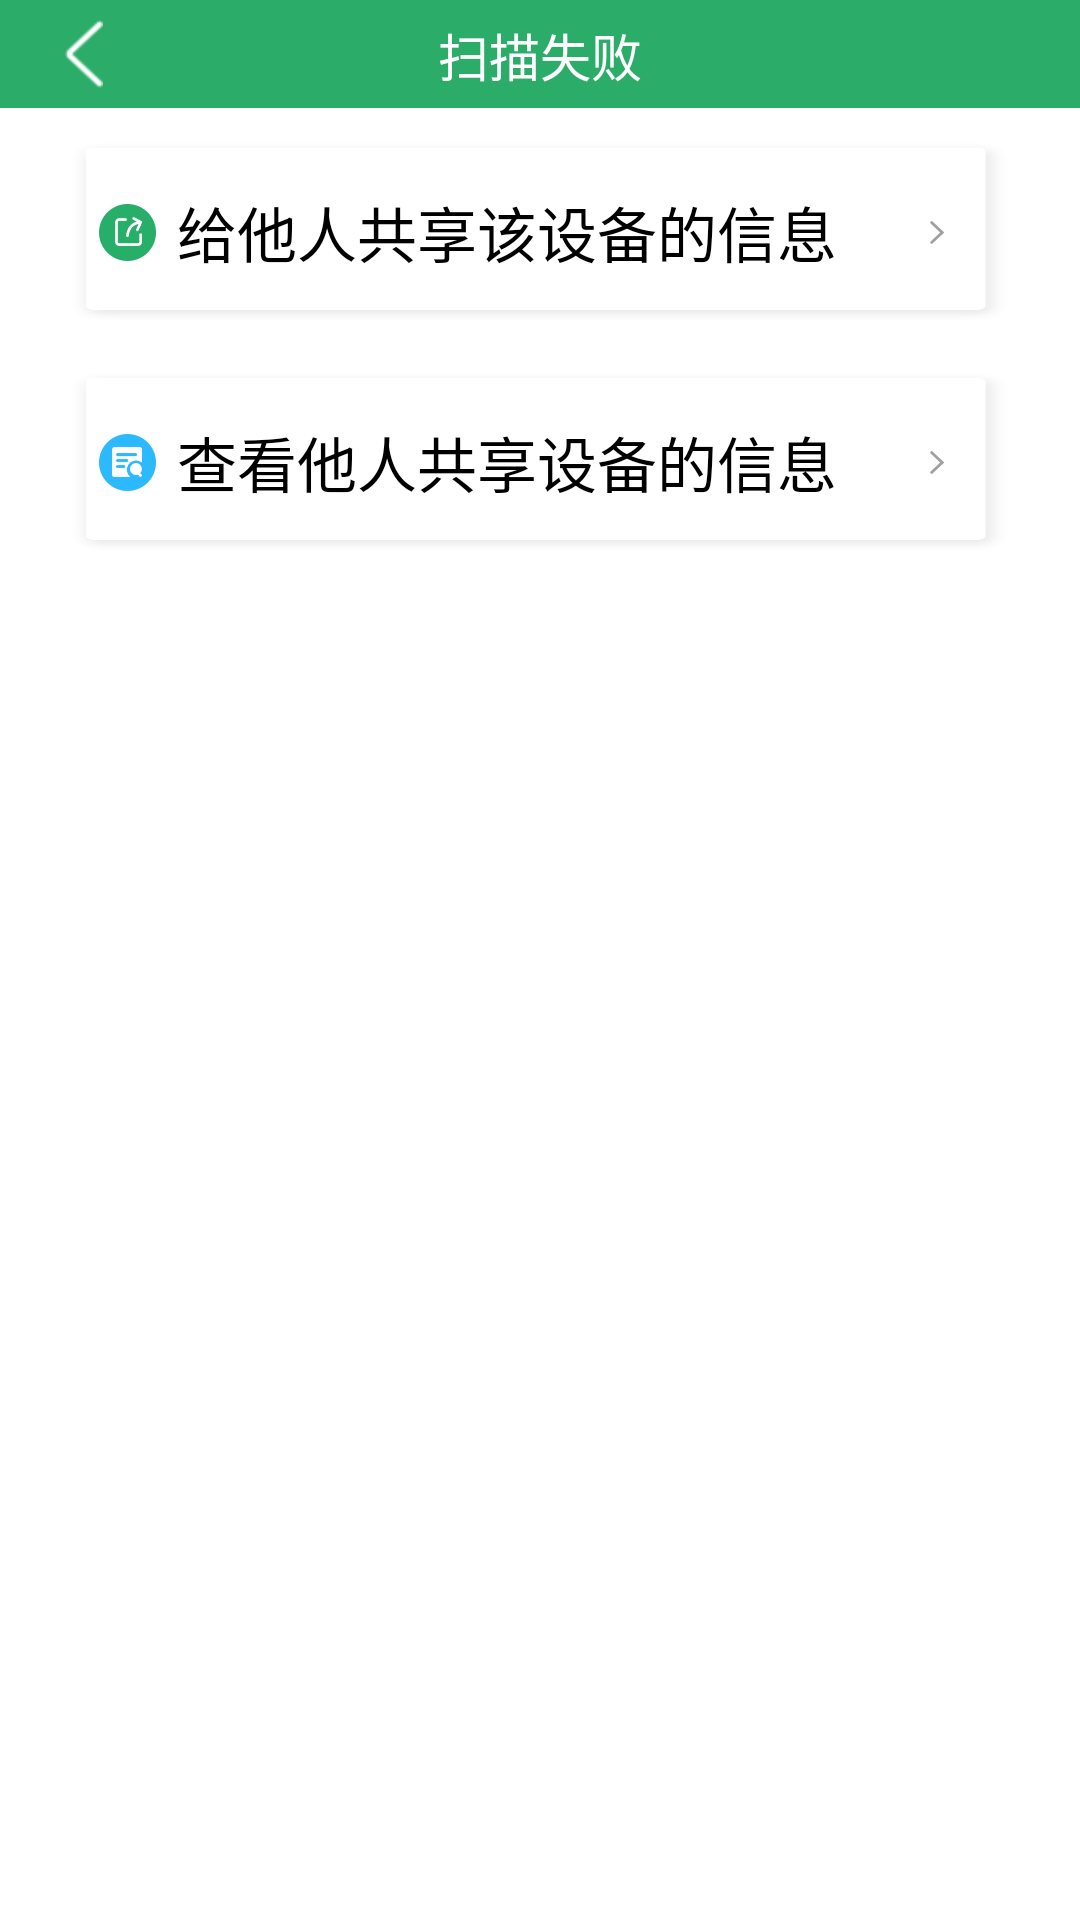

Icon bounding boxes for this 1080×1920 phone screenshot, format (x1, y1, x2, y2):
back: (65, 20, 103, 88)
share: (99, 204, 156, 261)
